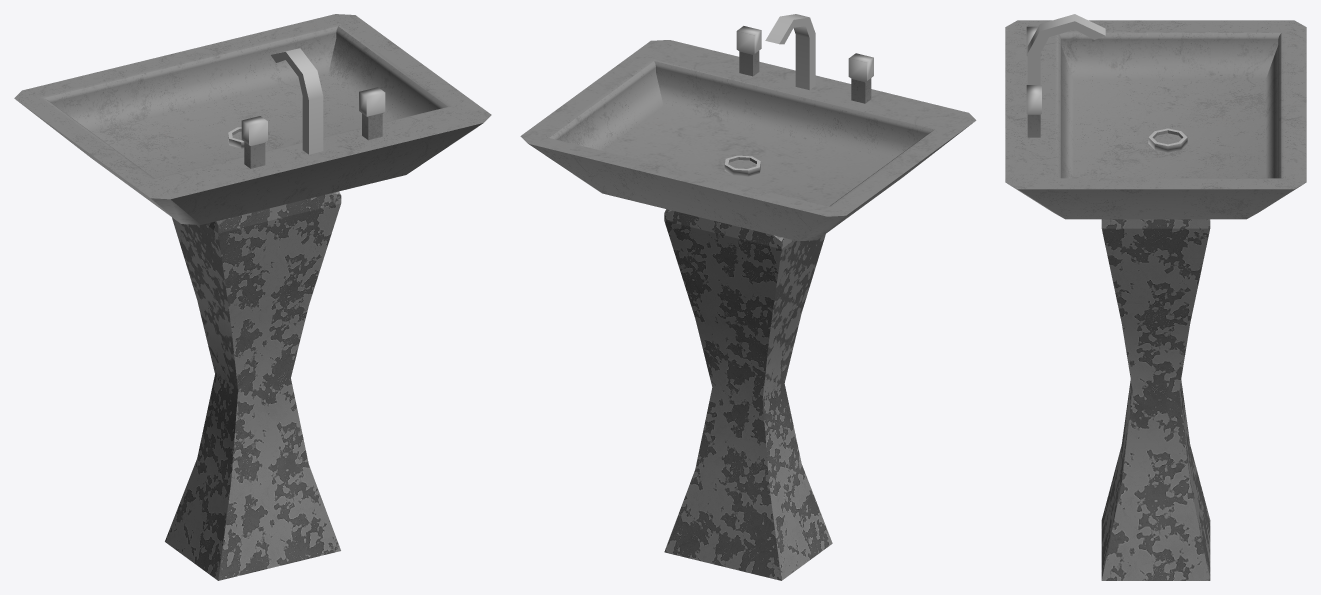
The model's file is Sink.fbx.
3 views of the same model, side by side, from view 1: azimuth 30°, elevation 25°; view 2: azimuth 150°, elevation 25°; view 3: azimuth 270°, elevation 25° (orthographic). The views are drawn at different scales.
Parts seen in each view (by area): view 1: Sink; view 2: Sink; view 3: Sink.
Boxes of the visible parts, box(x1,y1,x2,y2) form: Sink: box(14, 14, 491, 580); Sink: box(520, 14, 976, 580); Sink: box(1005, 14, 1306, 580).
Size of the model in its own units: 116 by 171 by 87.54.
